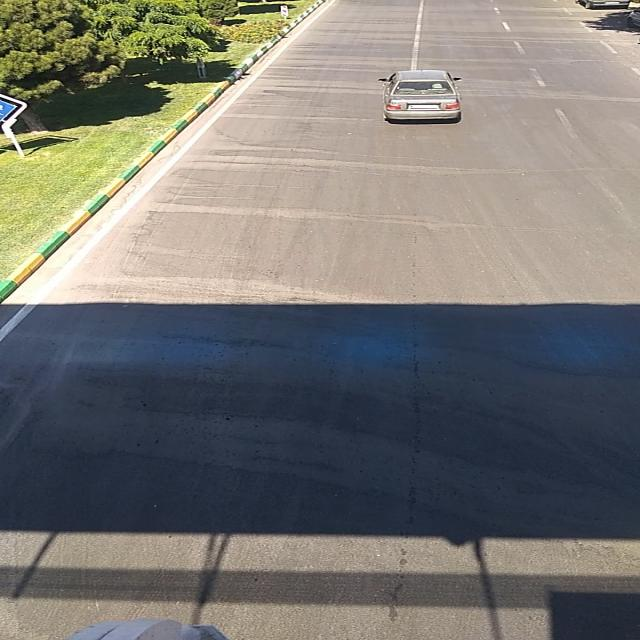car: (377, 71, 461, 125)
